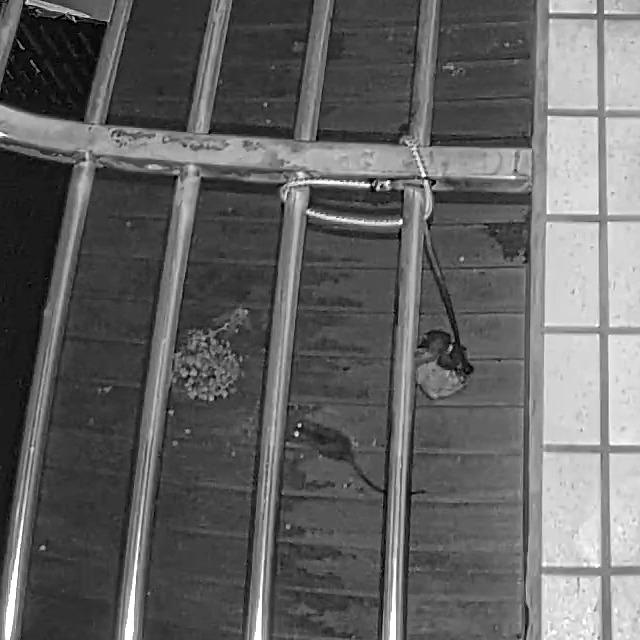rat: (289, 420, 429, 499)
